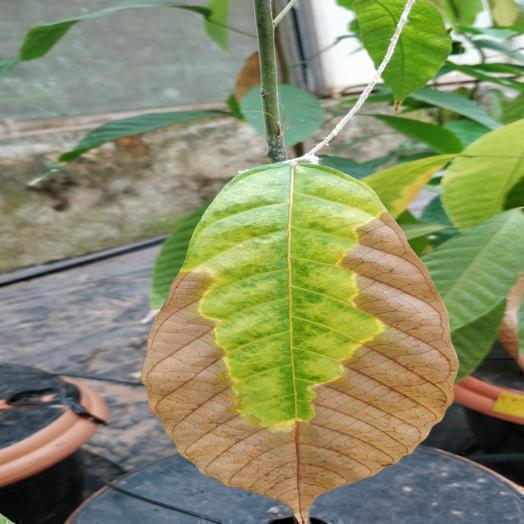Potassium: (143, 161, 457, 523)
